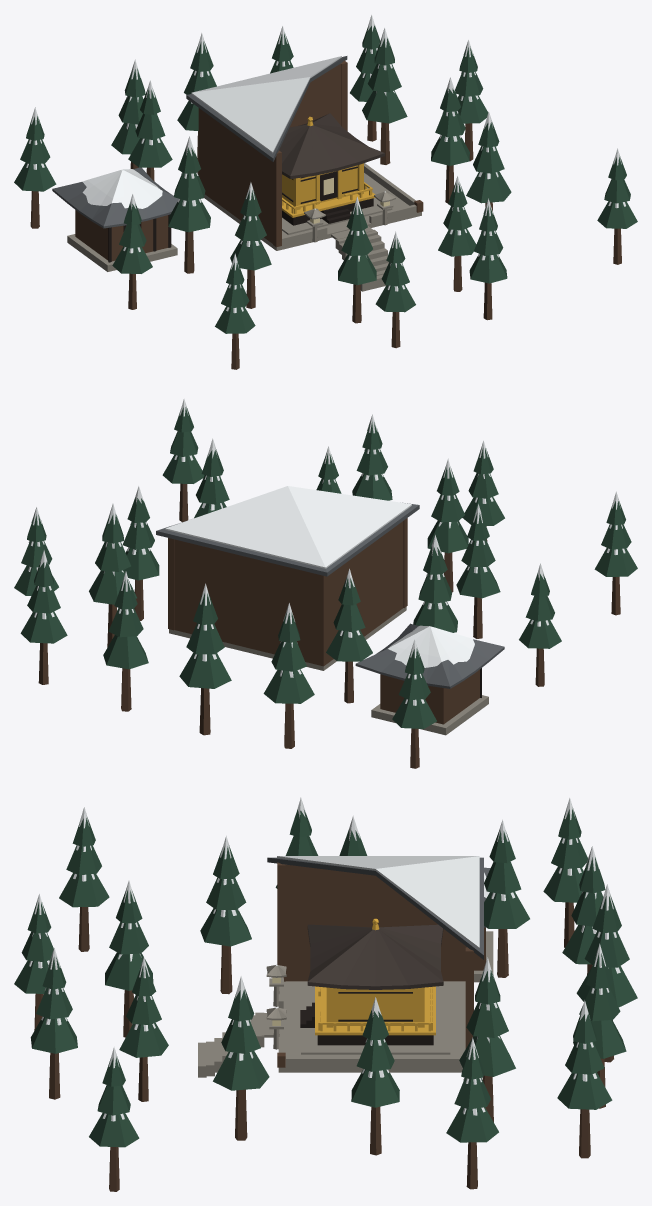
The model's file is chuson-ji.glb.
3 views of the same model, one above another, from view 1: azimuth 30°, elevation 25°; view 2: azimuth 150°, elevation 25°; view 3: azimuth 270°, elevation 25° (orthographic). The views are drawn at different scales.
Parts seen in each view (by area): view 1: chuson_fir, chuson_wood, chuson_snow, chuson_stone, chuson_shingle, chuson_roof, chuson_gold, chuson_lacquer; view 2: chuson_fir, chuson_wood, chuson_snow, chuson_roof, chuson_stone; view 3: chuson_fir, chuson_wood, chuson_snow, chuson_stone, chuson_shingle, chuson_gold, chuson_roof, chuson_lacquer.
Part boxes in pixels (x1,y1,x2,y2): chuson_fir: (14,25,637,333); chuson_wood: (30,60,621,369); chuson_snow: (26,14,625,313); chuson_stone: (67,163,421,291); chuson_shingle: (279,113,384,178); chuson_roof: (52,56,347,228); chuson_gold: (282,116,375,217); chuson_lacquer: (108,166,373,262); chuson_fir: (14,407,637,728); chuson_wood: (32,483,620,768); chuson_snow: (28,398,625,705); chuson_roof: (156,502,504,688); chuson_stone: (169,607,488,735); chuson_fir: (14,808,637,1147); chuson_wood: (34,862,613,1191); chuson_snow: (29,797,620,1121); chuson_stone: (198,931,493,1077); chuson_shingle: (307,924,443,989); chuson_gold: (315,918,435,1035); chuson_roof: (267,857,490,959); chuson_lacquer: (300,992,433,1045).
Bounding box in the file's own units: 17.03 × 5.92 × 16.7.
